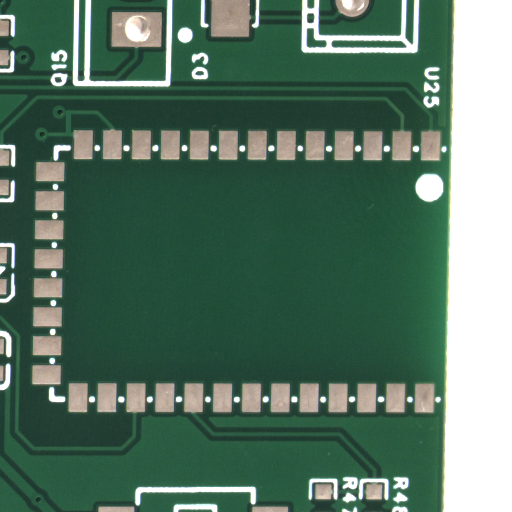Short: (68, 122, 77, 144)
